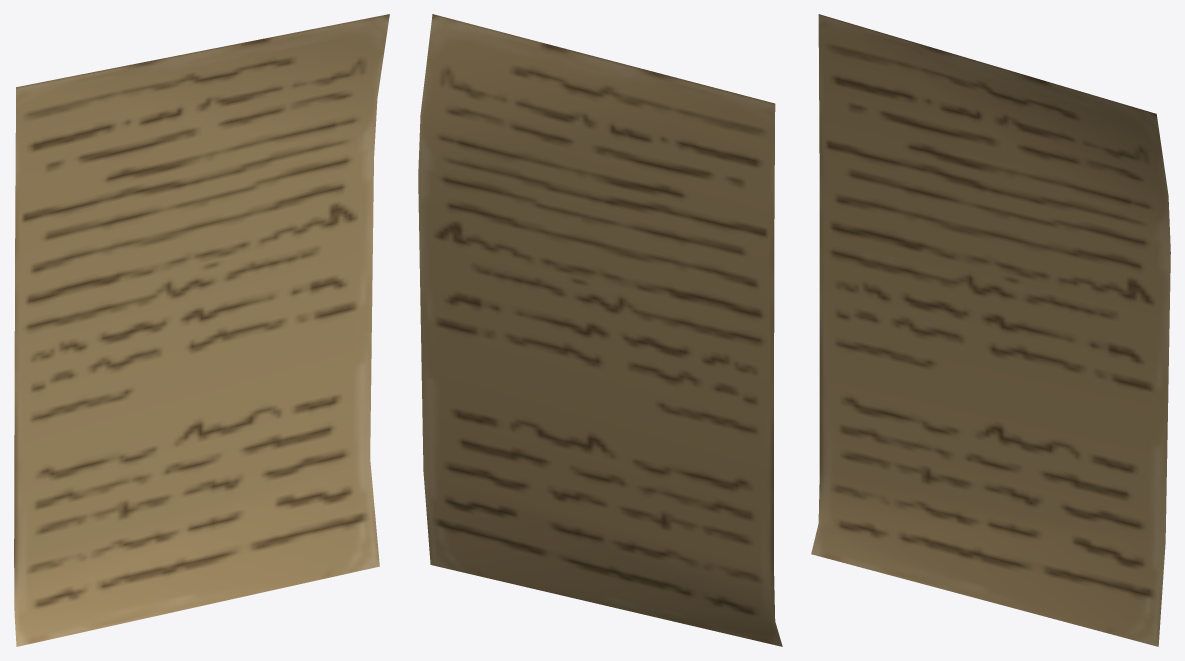
File: SM_PROP_paper_city_03.fbx
3 renders of one model, left to right at view 1: azimuth 30°, elevation 25°; view 2: azimuth 150°, elevation 25°; view 3: azimuth 330°, elevation 25°, orthographic. The views are drawn at different scales.
Visible parts, largest first — view 1: SM_PROP_paper_city_03; view 2: SM_PROP_paper_city_03; view 3: SM_PROP_paper_city_03.
Boxes of the visible parts, x1,y1,x2,y2 form: SM_PROP_paper_city_03: [14, 14, 389, 646]; SM_PROP_paper_city_03: [418, 14, 782, 646]; SM_PROP_paper_city_03: [811, 14, 1170, 646].
Bounding box in the file's own units: 35.5 × 52.21 × 2.56.
